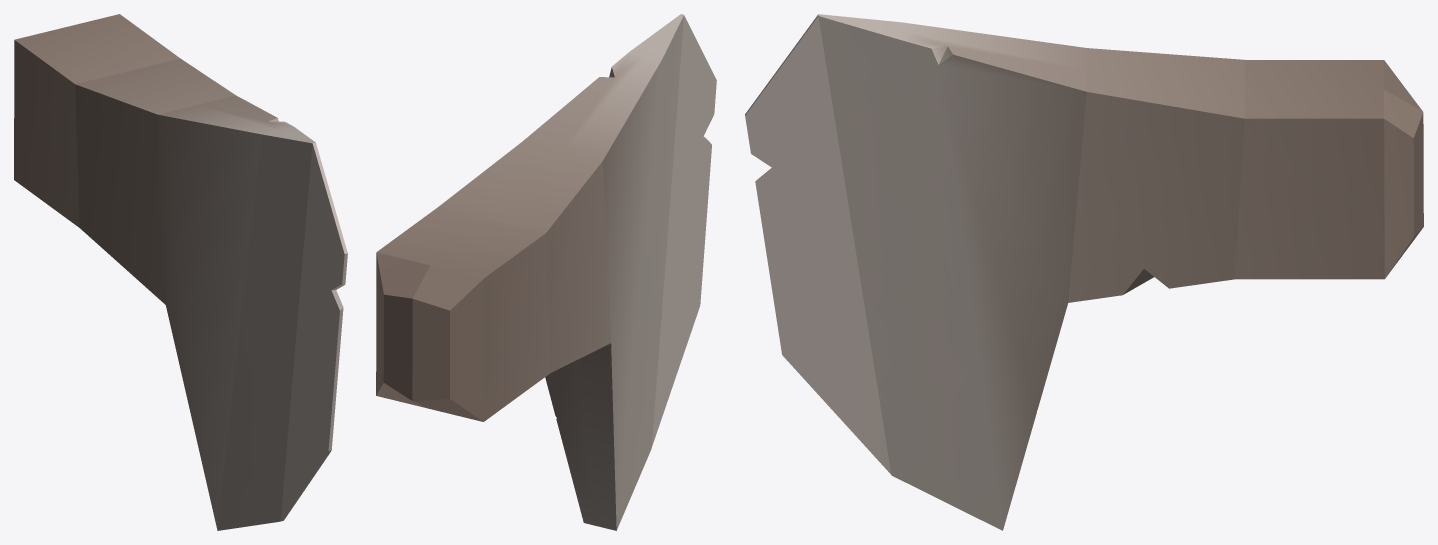
File: axeHead.fbx
The picture shows the model from 3 angles, left to right: view 1: azimuth 30°, elevation 25°; view 2: azimuth 150°, elevation 25°; view 3: azimuth 270°, elevation 25°; orthographic projection. The views are drawn at different scales.
Visible parts, largest first — view 1: Lemmet, White_shine; view 2: Lemmet, White_shine; view 3: Lemmet, White_shine.
Part boxes in pixels (box(x1,y1,x2,y2)): Lemmet: box(14, 14, 315, 530); White_shine: box(280, 142, 347, 521); Lemmet: box(376, 14, 683, 530); White_shine: box(651, 15, 716, 447); Lemmet: box(818, 14, 1423, 530); White_shine: box(745, 14, 891, 474).
Size of the model in its own units: 39.03 by 157 by 190.
